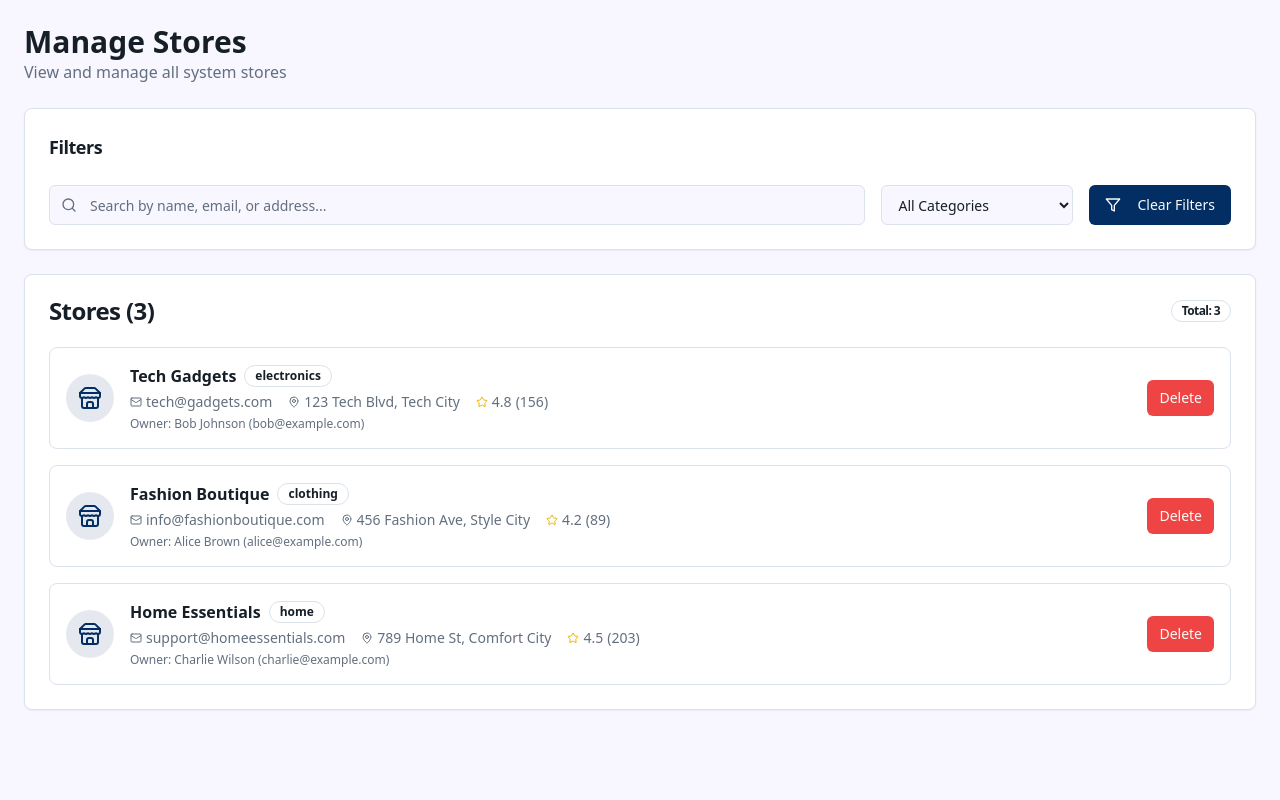
it: AdminStores › should filter stores by search term
// Search for "Tech"
Type "Tech" into the field with placeholder "Search by name, email, or address...". click: (457, 205)
box: [49,185,865,225]
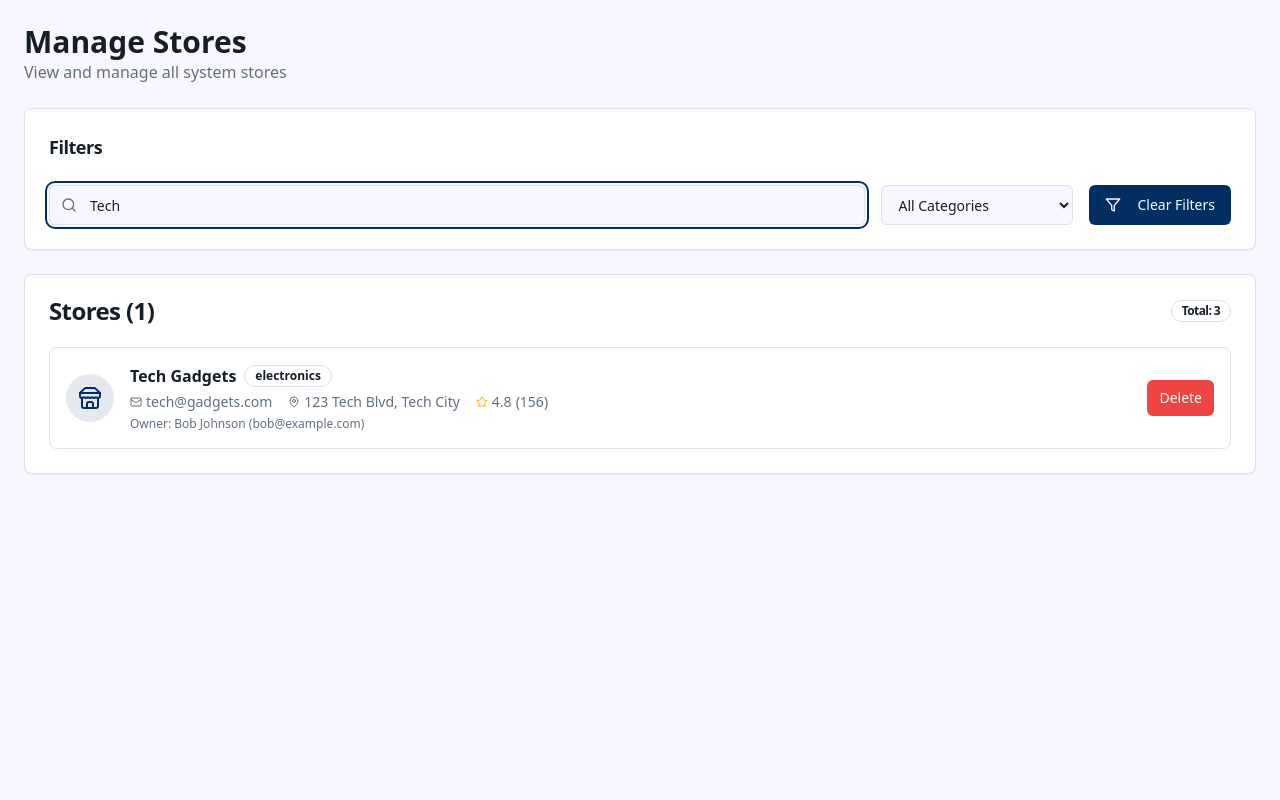
Expected: the heading "Tech Gadgets" is shown, [130,364,236,388]
Expected: the heading "Fashion Boutique" is gone
Expected: the heading "Home Essentials" is gone
